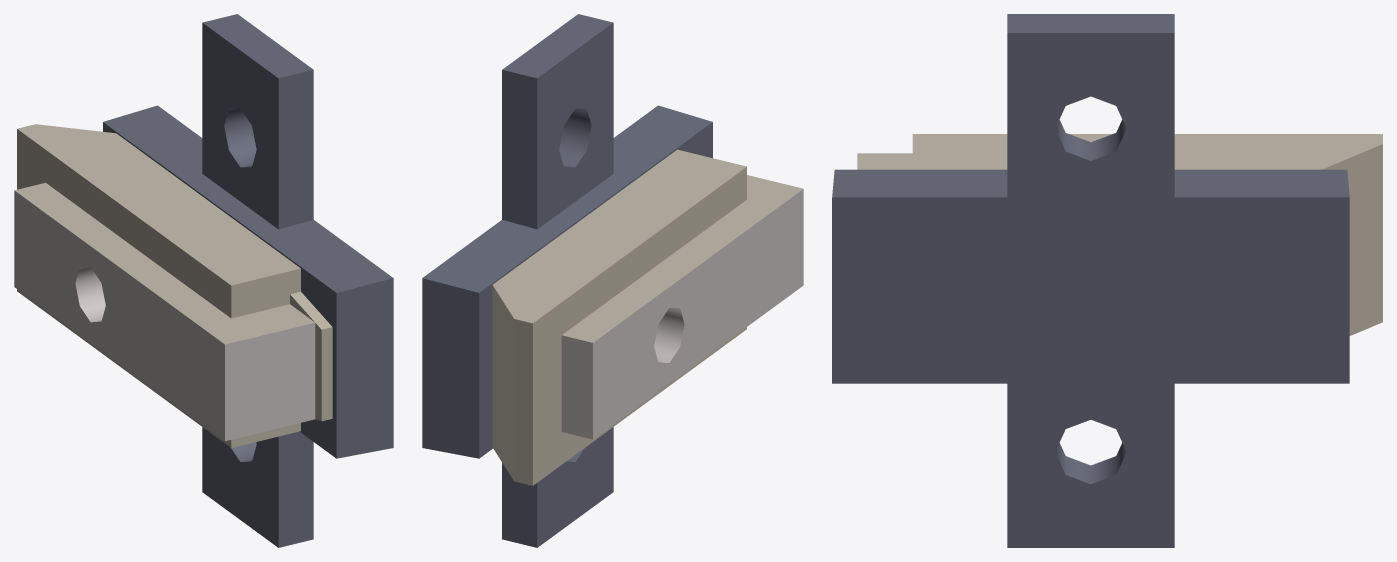
The picture shows the model from 3 angles, left to right: view 1: azimuth 30°, elevation 25°; view 2: azimuth 150°, elevation 25°; view 3: azimuth 270°, elevation 25°; orthographic projection. The views are drawn at different scales.
Visible parts, largest first — view 1: bau0219151221-2, bau0074227963-2; view 2: bau0219151221-2, bau0074227963-2; view 3: bau0074227963-2, bau0219151221-2.
Boxes of the visible parts, x1,y1,x2,y2 form: bau0219151221-2: [14, 124, 332, 447]; bau0074227963-2: [103, 14, 393, 547]; bau0219151221-2: [492, 149, 803, 485]; bau0074227963-2: [422, 14, 712, 547]; bau0074227963-2: [832, 14, 1349, 547]; bau0219151221-2: [857, 134, 1382, 335].
Bounding box in the file's own units: 17.85 × 51 × 49.41.
